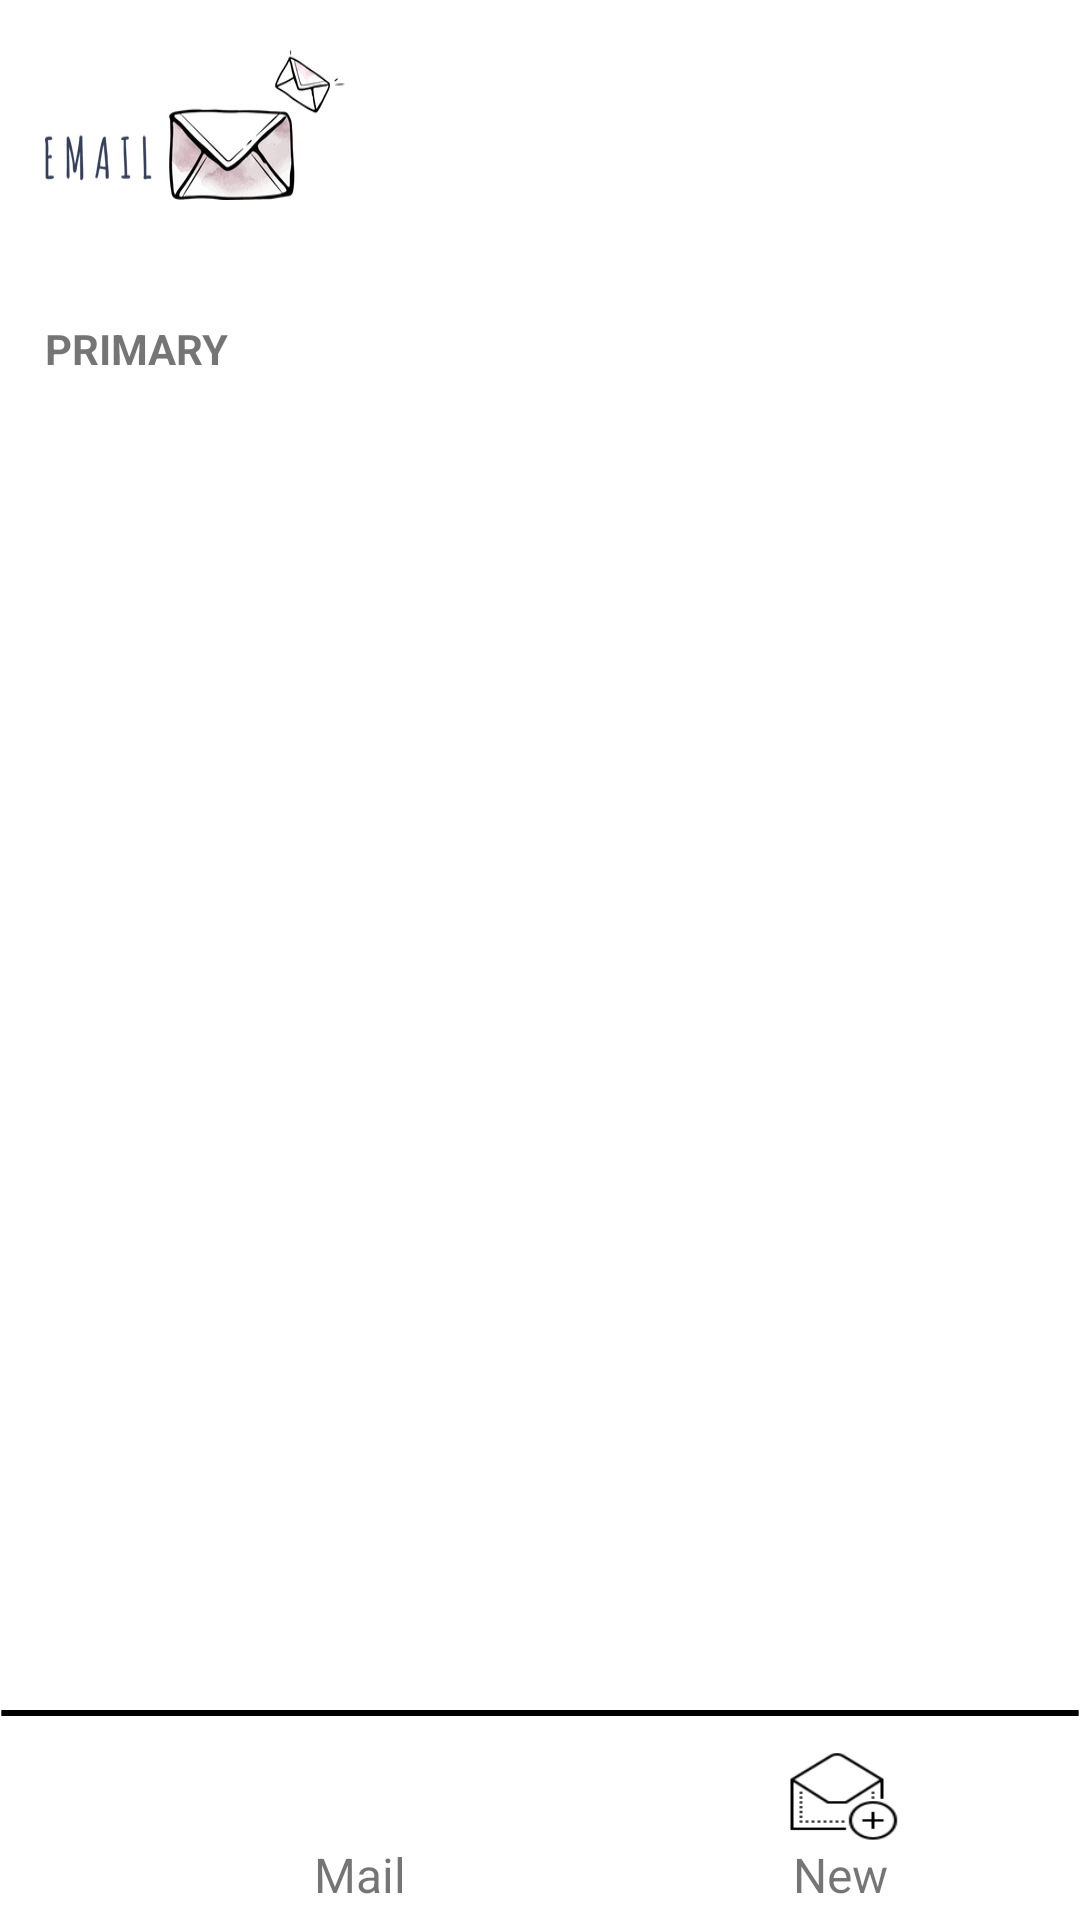

Locate icon controls on the screen. Image size 1080×1920, boxes as bbox=[x1, y1, x2, y2].
add mail: bbox=[790, 1753, 898, 1840]
